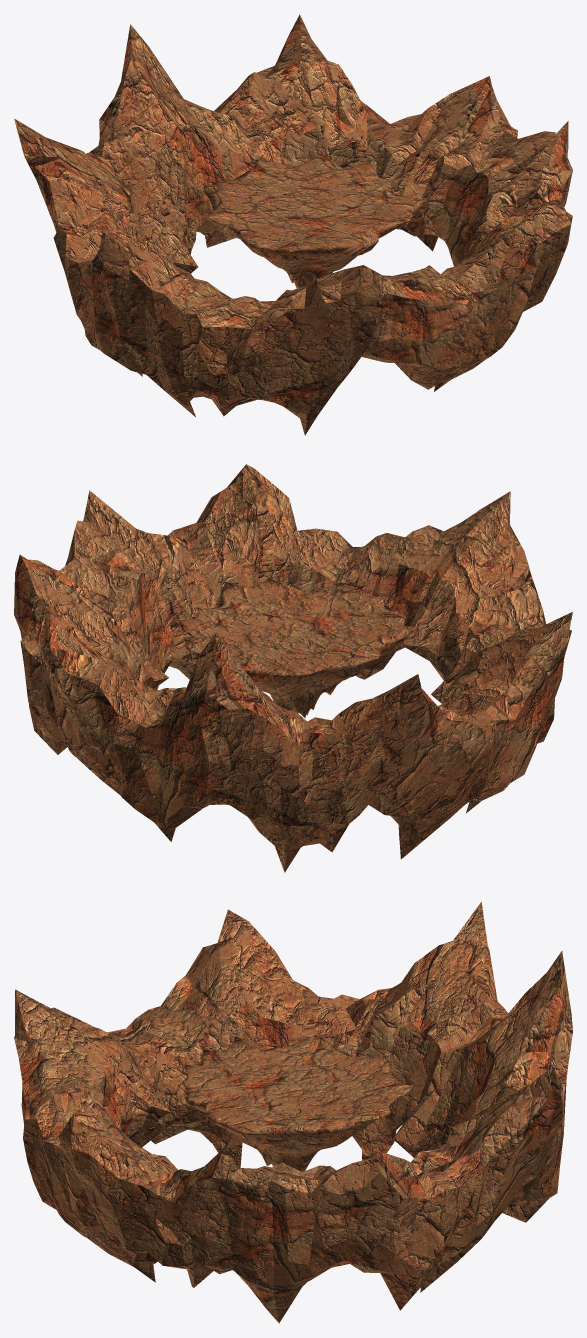
The model's file is Hell arena 1.fbx.
3 renders of one model, top to bottom at view 1: azimuth 30°, elevation 25°; view 2: azimuth 150°, elevation 25°; view 3: azimuth 270°, elevation 25°, orthographic. The views are drawn at different scales.
Visible parts, largest first — view 1: Circle, Plane; view 2: Circle, Plane; view 3: Circle, Plane.
Part boxes in pixels (x1=…): Circle: x1=14, y1=14, x2=572, y2=435; Plane: x1=207, y1=153, x2=425, y2=288; Circle: x1=14, y1=464, x2=572, y2=872; Plane: x1=179, y1=578, x2=414, y2=718; Circle: x1=14, y1=902, x2=572, y2=1323; Plane: x1=183, y1=1034, x2=413, y2=1171.
Size of the model in its own units: 492 by 275 by 481.
2 materials, 2 textured.
